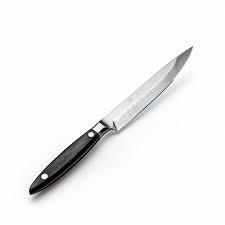Knife: (28, 45, 193, 195)
